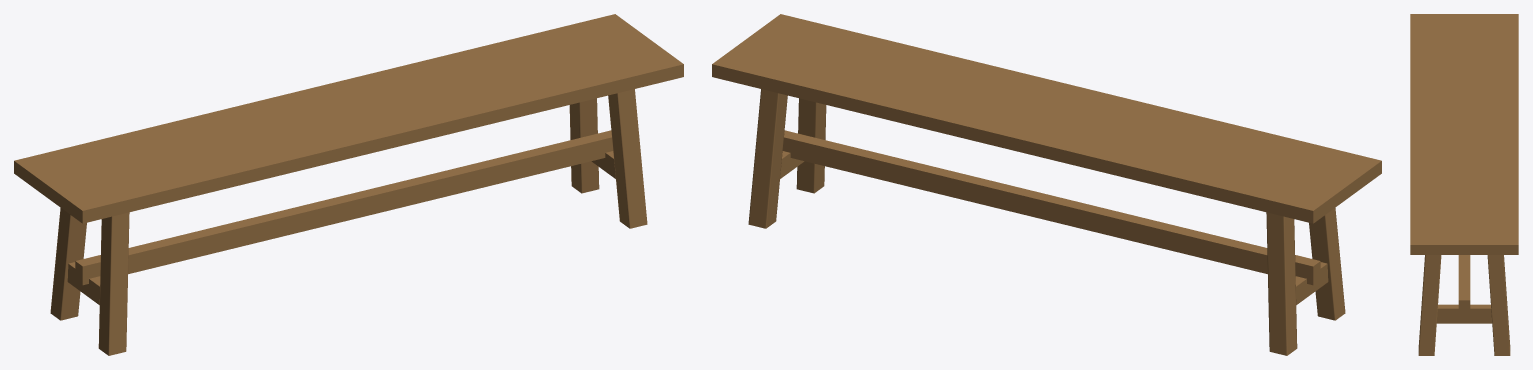
3 views of the same model, side by side, from view 1: azimuth 30°, elevation 25°; view 2: azimuth 150°, elevation 25°; view 3: azimuth 270°, elevation 25° (orthographic). The views are drawn at different scales.
Visible parts, largest first — view 1: bench; view 2: bench; view 3: bench.
Part boxes in pixels (x1=…): bench: x1=14, y1=14, x2=683, y2=355; bench: x1=712, y1=14, x2=1381, y2=355; bench: x1=1410, y1=14, x2=1518, y2=355.
Bounding box in the file's own units: 1.77 × 0.44 × 0.35.
